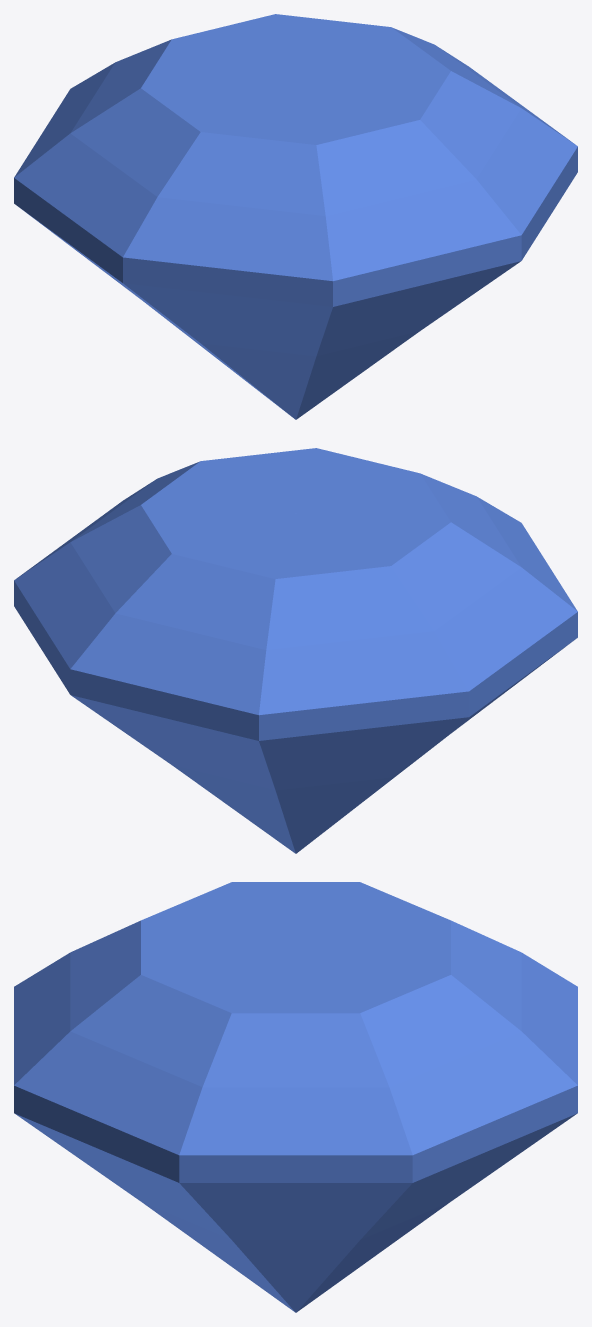
The model's file is sapphire-glass.glb.
The picture shows the model from 3 angles, top to bottom: view 1: azimuth 30°, elevation 25°; view 2: azimuth 150°, elevation 25°; view 3: azimuth 270°, elevation 25°; orthographic projection. The views are drawn at different scales.
Parts seen in each view (by area): view 1: Sapphire; view 2: Sapphire; view 3: Sapphire.
Part boxes in pixels (x1,y1,x2,y2): Sapphire: (14, 14, 577, 419); Sapphire: (14, 448, 577, 853); Sapphire: (14, 882, 577, 1312).
Size of the model in its own units: 1.85 by 1.32 by 1.85.
